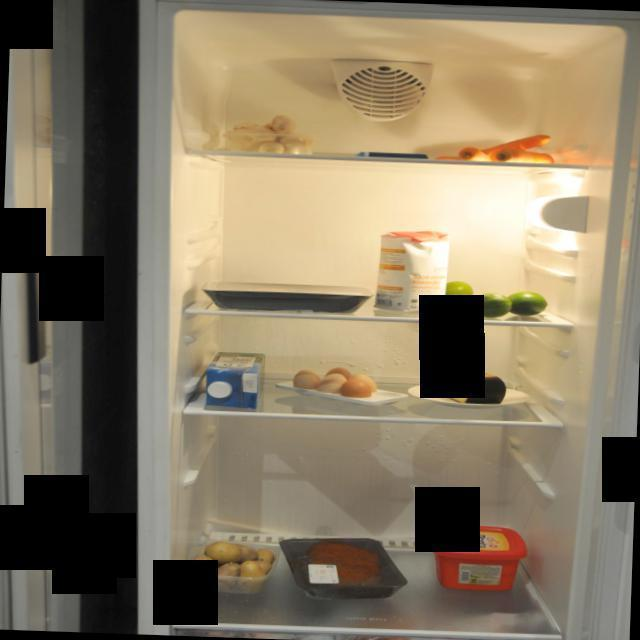beef: (277, 533, 411, 602)
butter: (424, 522, 528, 594)
carrot: (428, 129, 558, 164)
cheese: (436, 362, 508, 406)
chocolate: (354, 150, 430, 162)
egg: (291, 364, 378, 401)
lime: (434, 276, 553, 322)
milk: (205, 348, 268, 410)
mushrooms: (220, 111, 322, 156)
potato: (182, 538, 278, 594)
sugar: (372, 226, 454, 314)
